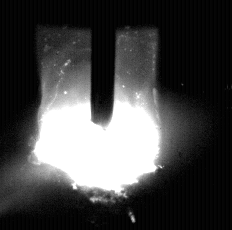arame: (92, 0, 115, 127)
poca: (33, 0, 160, 230)
